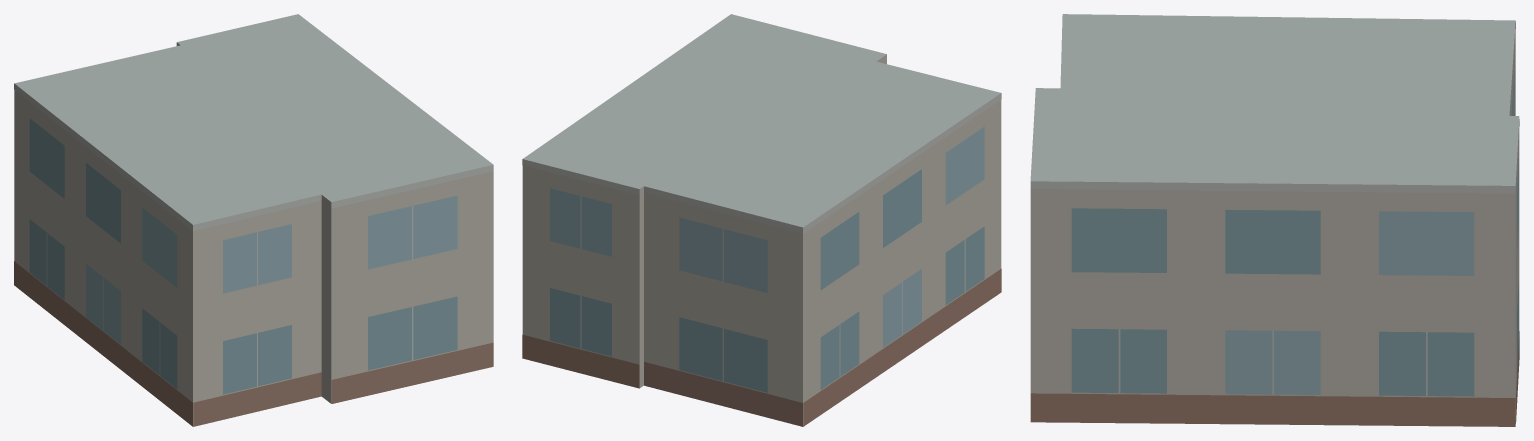
The model's file is survey-upis-32832430.glb.
3 renders of one model, left to right at view 1: azimuth 30°, elevation 25°; view 2: azimuth 150°, elevation 25°; view 3: azimuth 270°, elevation 25°, orthographic. The views are drawn at different scales.
Parts seen in each view (by area): view 1: survey-upis-32832430.tmp; view 2: survey-upis-32832430.tmp; view 3: survey-upis-32832430.tmp.
Boxes of the visible parts, x1,y1,x2,y2 form: survey-upis-32832430.tmp: (14, 14, 493, 426); survey-upis-32832430.tmp: (522, 14, 1001, 426); survey-upis-32832430.tmp: (1030, 14, 1519, 426).
Bounding box in the file's own units: 11.87 × 7.75 × 14.26.
